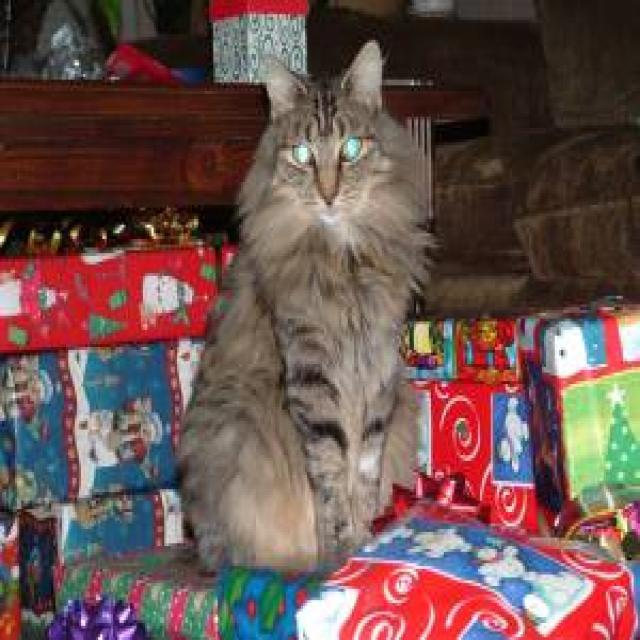Maine_Coon: (265, 37, 380, 225)
